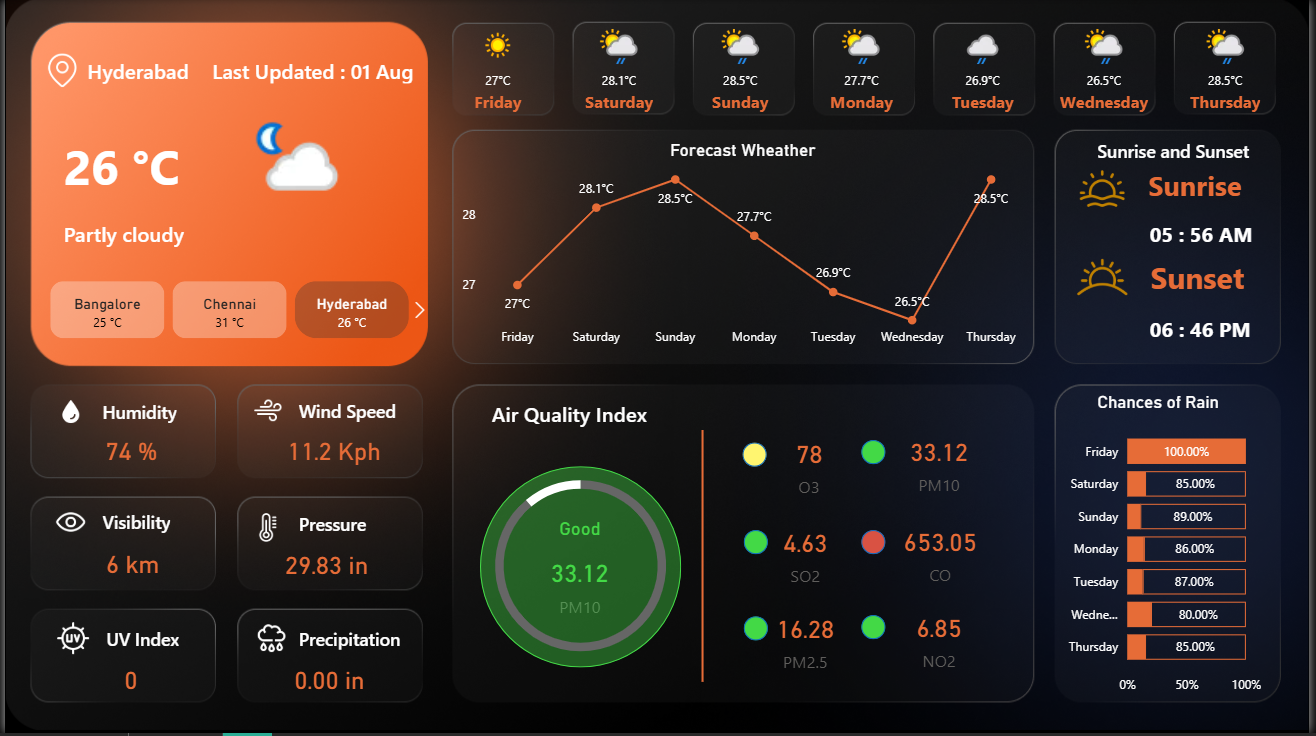

The page's visual inventory and layout, read from the dashboard file:
{"tool":"powerbi","page":{"name":"Page 1","canvas":[1280,720],"ordinal":0},"visuals":[{"type":"advancedSlicerVisual","fields":{"Values":["Locations.location.name"]},"box":[20,271.2,403.8,66.2],"z":0},{"type":"shape","box":[57.5,131.2,125,62.5],"z":1000},{"type":"shape","box":[57.5,212.5,300,33.8],"z":2000},{"type":"shape","box":[81.2,52.5,150,32.5],"z":3000},{"type":"shape","box":[203.8,51.2,220,33.8],"z":4000},{"type":"image","box":[32.5,47.5,48.8,42.5],"z":5000},{"type":"cardVisual","fields":{"Data":["Min(current.current.condition.icon)"]},"box":[215,97.5,136.2,115],"z":6000},{"type":"image","box":[47.5,386.2,33.8,35],"z":7000},{"type":"shape","box":[96.2,387.5,95,33.8],"z":8000},{"type":"shape","box":[288.8,386.2,111.2,33.8],"z":9000},{"type":"image","box":[238.8,383.8,37.5,37.5],"z":10000},{"type":"image","box":[42.5,491.2,43.8,43.8],"z":11000},{"type":"shape","box":[96.2,496.2,95,33.8],"z":12000},{"type":"image","box":[238.8,496.2,37.5,43.8],"z":13000},{"type":"shape","box":[288.8,497.5,111.2,33.8],"z":14000},{"type":"image","box":[42.5,605,47.5,43.8],"z":15000},{"type":"shape","box":[100,610,111.2,33.8],"z":16000},{"type":"image","box":[238.8,605,45,43.8],"z":17000},{"type":"shape","box":[288.8,610,111.2,33.8],"z":18000},{"type":"card","fields":{"Values":["_Measures.Humidity"]},"box":[78.8,420,91.2,46.2],"z":19000},{"type":"card","fields":{"Values":["_Measures.Wind_Speed"]},"box":[257.5,420,131.2,46.2],"z":20000},{"type":"card","fields":{"Values":["_Measures.Visibility"]},"box":[75,530,101.2,46.2],"z":21000},{"type":"card","fields":{"Values":["_Measures.Pressure"]},"box":[261.2,531.2,108.8,46.2],"z":22000},{"type":"card","fields":{"Values":["Sum(current.current.uv)"]},"box":[96.2,643.8,56.2,46.2],"z":23000},{"type":"card","fields":{"Values":["_Measures.Precipitation"]},"box":[267.5,643.8,102.5,46.2],"z":24000},{"type":"advancedSlicerVisual","fields":{"Values":["forcast_day.Day_Name"]},"box":[423.8,16.2,837.5,105],"z":25000},{"type":"lineChart","title":"Forecast  Wheather","fields":{"Y":["Sum(forcast_day.forecast.forecastday.day.avgtemp_c)"],"Category":["forcast_day.Day_Name"]},"box":[443.8,137.5,560,211.2],"z":26000},{"type":"shape","box":[1045,131.2,202.5,33.8],"z":27000},{"type":"shape","box":[1108.8,212.5,130,33.8],"z":28000},{"type":"shape","box":[1113.8,305,118.8,32.5],"z":29000},{"type":"shape","box":[1106.2,162.5,122.5,38.8],"z":30000},{"type":"shape","box":[1108.8,251.2,122.5,38.8],"z":31000},{"type":"image","box":[1045,158.8,63.8,53.8],"z":32000},{"type":"image","box":[1017.5,233.8,120,75],"z":33000},{"type":"hundredPercentStackedBarChart","title":"Chances of Rain","fields":{"Y":["current.Left_value_Rain","Sum(forcast_day.forecast.forecastday.day.daily_chance_of_rain)"],"Category":["forcast_day.Day_Name"]},"box":[1026.2,383.8,212.5,306.2],"z":34000},{"type":"shape","box":[452.5,388.8,202.5,33.8],"z":35000},{"type":"card","fields":{"Values":["Sum(current.current.air_quality.pm10)"]},"box":[851.2,420,131.2,68.8],"z":36000},{"type":"card","fields":{"Values":["Sum(current.current.air_quality.co)"]},"box":[852.5,507.5,131.2,68.8],"z":37000},{"type":"card","fields":{"Values":["Sum(current.current.air_quality.no2)"]},"box":[851.2,592.5,131.2,68.8],"z":38000},{"type":"card","fields":{"Values":["Sum(current.current.air_quality.o3)"]},"box":[723.8,422.5,131.2,68.8],"z":39000},{"type":"card","fields":{"Values":["Sum(current.current.air_quality.so2)"]},"box":[720,508.8,131.2,68.8],"z":40000},{"type":"card","fields":{"Values":["Sum(current.current.air_quality.pm2_5)"]},"box":[720,593.8,131.2,68.8],"z":41000},{"type":"shape","box":[723.8,433.8,23.8,23.8],"z":42000},{"type":"shape","box":[840,432.5,23.8,23.8],"z":43000},{"type":"shape","box":[840,520,23.8,23.8],"z":44000},{"type":"shape","box":[725,520,23.8,23.8],"z":45000},{"type":"shape","box":[725,605,23.8,23.8],"z":46000},{"type":"shape","box":[840,603.8,23.8,23.8],"z":47000},{"type":"shape","box":[582.5,422.5,203.8,247.5],"z":48000},{"type":"card","fields":{"Values":["Sum(current.current.air_quality.pm10)"]},"box":[498.8,507.5,132.5,110],"z":49000},{"type":"shape","box":[466.2,457.5,197.5,197.5],"z":50000},{"type":"donutChart","fields":{"Y":["_Measures.Left_value_PM10","Sum(current.current.air_quality.pm10)"]},"box":[455,440,220,230],"z":51000}]}

Visuals, with their boxes in screenshot pixels (x1, y1, x2, y2), scaled from the page's 1280x720 canvas onto the 1316x736 screenshot:
advancedSlicerVisual - Locations.location.name: pyautogui.locateOnScreen(21, 277, 436, 345)
shape: pyautogui.locateOnScreen(59, 134, 188, 198)
shape: pyautogui.locateOnScreen(59, 217, 368, 252)
shape: pyautogui.locateOnScreen(83, 54, 238, 87)
shape: pyautogui.locateOnScreen(210, 52, 436, 87)
image: pyautogui.locateOnScreen(33, 49, 84, 92)
cardVisual - Min(current.current.condition.icon): pyautogui.locateOnScreen(221, 100, 361, 217)
image: pyautogui.locateOnScreen(49, 395, 84, 431)
shape: pyautogui.locateOnScreen(99, 396, 197, 431)
shape: pyautogui.locateOnScreen(297, 395, 411, 429)
image: pyautogui.locateOnScreen(246, 392, 284, 431)
image: pyautogui.locateOnScreen(44, 502, 89, 547)
shape: pyautogui.locateOnScreen(99, 507, 197, 542)
image: pyautogui.locateOnScreen(246, 507, 284, 552)
shape: pyautogui.locateOnScreen(297, 509, 411, 543)
image: pyautogui.locateOnScreen(44, 618, 93, 663)
shape: pyautogui.locateOnScreen(103, 624, 217, 658)
image: pyautogui.locateOnScreen(246, 618, 292, 663)
shape: pyautogui.locateOnScreen(297, 624, 411, 658)
card - _Measures.Humidity: pyautogui.locateOnScreen(81, 429, 175, 477)
card - _Measures.Wind_Speed: pyautogui.locateOnScreen(265, 429, 400, 477)
card - _Measures.Visibility: pyautogui.locateOnScreen(77, 542, 181, 589)
card - _Measures.Pressure: pyautogui.locateOnScreen(269, 543, 380, 590)
card - Sum(current.current.uv): pyautogui.locateOnScreen(99, 658, 157, 705)
card - _Measures.Precipitation: pyautogui.locateOnScreen(275, 658, 380, 705)
advancedSlicerVisual - forcast_day.Day_Name: pyautogui.locateOnScreen(436, 17, 1297, 124)
"Forecast  Wheather" lineChart: pyautogui.locateOnScreen(456, 141, 1032, 356)
shape: pyautogui.locateOnScreen(1074, 134, 1283, 169)
shape: pyautogui.locateOnScreen(1140, 217, 1274, 252)
shape: pyautogui.locateOnScreen(1145, 312, 1267, 345)
shape: pyautogui.locateOnScreen(1137, 166, 1263, 206)
shape: pyautogui.locateOnScreen(1140, 257, 1266, 296)
image: pyautogui.locateOnScreen(1074, 162, 1140, 217)
image: pyautogui.locateOnScreen(1046, 239, 1169, 316)
"Chances of Rain" hundredPercentStackedBarChart: pyautogui.locateOnScreen(1055, 392, 1274, 705)
shape: pyautogui.locateOnScreen(465, 397, 673, 432)
card - Sum(current.current.air_quality.pm10): pyautogui.locateOnScreen(875, 429, 1010, 500)
card - Sum(current.current.air_quality.co): pyautogui.locateOnScreen(876, 519, 1011, 589)
card - Sum(current.current.air_quality.no2): pyautogui.locateOnScreen(875, 606, 1010, 676)
card - Sum(current.current.air_quality.o3): pyautogui.locateOnScreen(744, 432, 879, 502)
card - Sum(current.current.air_quality.so2): pyautogui.locateOnScreen(740, 520, 875, 590)
card - Sum(current.current.air_quality.pm2_5): pyautogui.locateOnScreen(740, 607, 875, 677)
shape: pyautogui.locateOnScreen(744, 443, 769, 468)
shape: pyautogui.locateOnScreen(864, 442, 888, 466)
shape: pyautogui.locateOnScreen(864, 532, 888, 556)
shape: pyautogui.locateOnScreen(745, 532, 770, 556)
shape: pyautogui.locateOnScreen(745, 618, 770, 643)
shape: pyautogui.locateOnScreen(864, 617, 888, 642)
shape: pyautogui.locateOnScreen(599, 432, 808, 685)
card - Sum(current.current.air_quality.pm10): pyautogui.locateOnScreen(513, 519, 649, 631)
shape: pyautogui.locateOnScreen(479, 468, 682, 670)
donutChart - _Measures.Left_value_PM10 x Sum(current.current.air_quality.pm10): pyautogui.locateOnScreen(468, 450, 694, 685)
